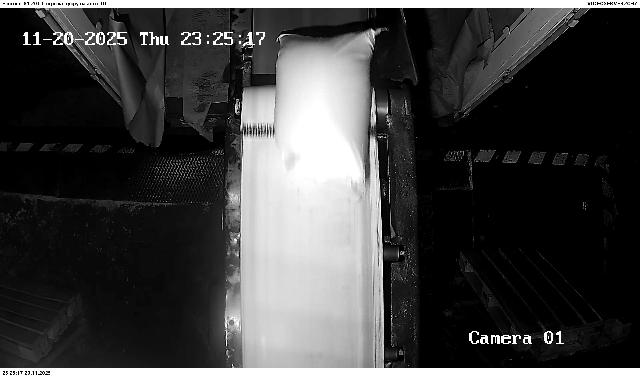bag: (275, 29, 380, 198)
